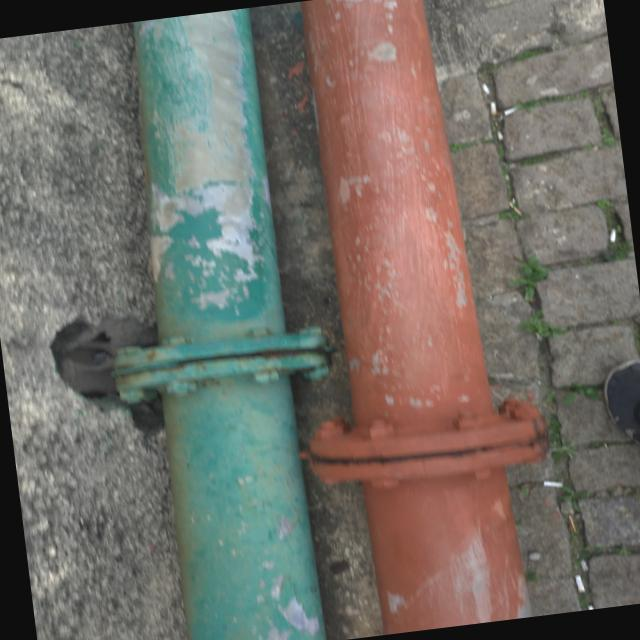gas: (295, 0, 522, 636), (121, 7, 322, 640)
